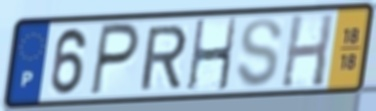6: (50, 25, 90, 98)
H: (278, 11, 336, 90), (185, 15, 239, 94)
P: (87, 21, 142, 99)
R: (137, 23, 190, 93)
S: (233, 16, 285, 90)
